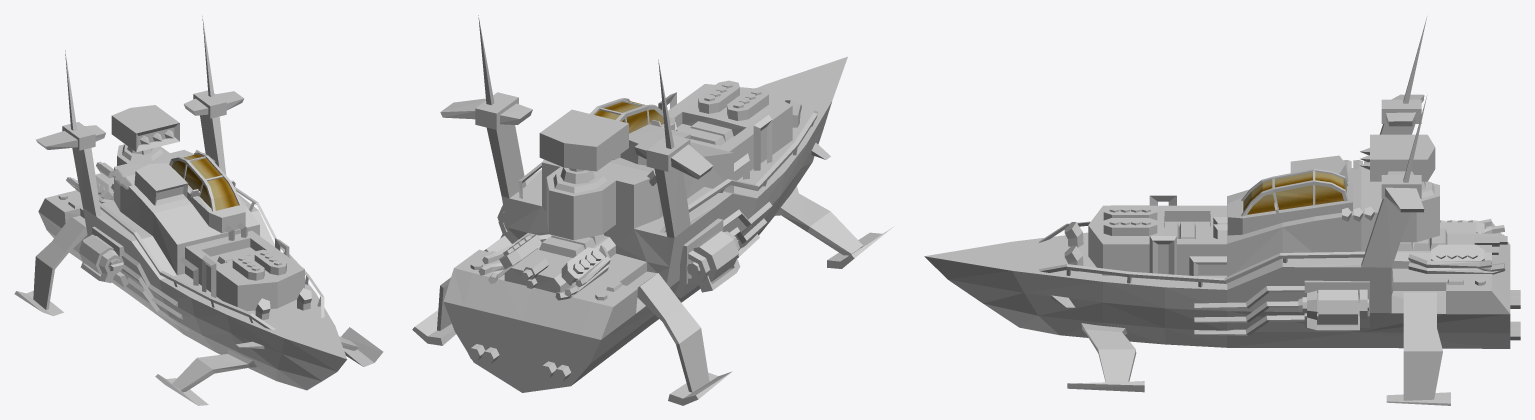
Rendered from UnitNavalXFrigate.bgf.obj.
3 views of the same model, side by side, from view 1: azimuth 30°, elevation 25°; view 2: azimuth 150°, elevation 25°; view 3: azimuth 270°, elevation 25° (orthographic). The views are drawn at different scales.
Parts seen in each view (by area): view 1: UNITNAVALXFRIGATE, BARREL02, GLASS, DEPTH_CHARGE02; view 2: UNITNAVALXFRIGATE, BARREL02, DEPTH_CHARGE02, GLASS, TURRET02; view 3: UNITNAVALXFRIGATE, BARREL02, GLASS, DEPTH_CHARGE01.
Boxes of the visible parts, x1,y1,x2,y2 form: UNITNAVALXFRIGATE: (14, 15, 383, 405); BARREL02: (111, 105, 179, 152); GLASS: (171, 154, 238, 210); DEPTH_CHARGE02: (79, 235, 113, 274); UNITNAVALXFRIGATE: (412, 15, 894, 405); BARREL02: (539, 109, 628, 171); DEPTH_CHARGE02: (691, 231, 738, 281); GLASS: (595, 100, 663, 133); TURRET02: (560, 167, 594, 184); UNITNAVALXFRIGATE: (924, 16, 1520, 405); BARREL02: (1359, 134, 1435, 181); GLASS: (1243, 172, 1346, 214); DEPTH_CHARGE01: (1318, 289, 1357, 323).
Size of the model in its own units: 8.23 by 9.05 by 16.5.
